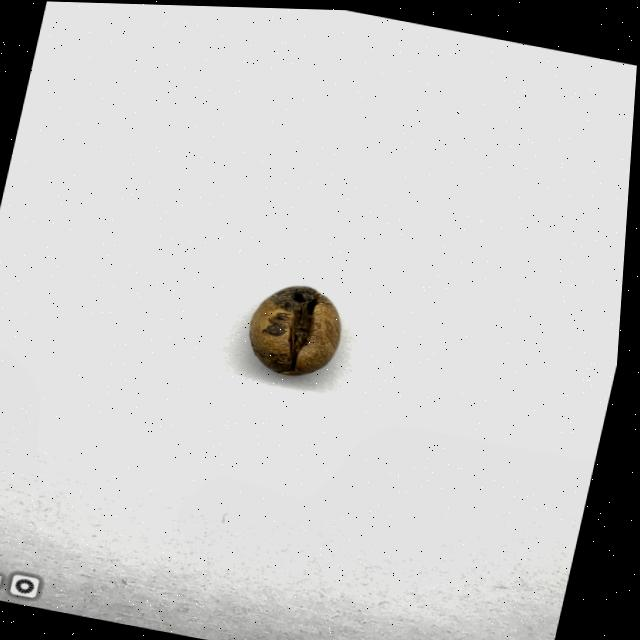Insect damage: (245, 275, 356, 382)
